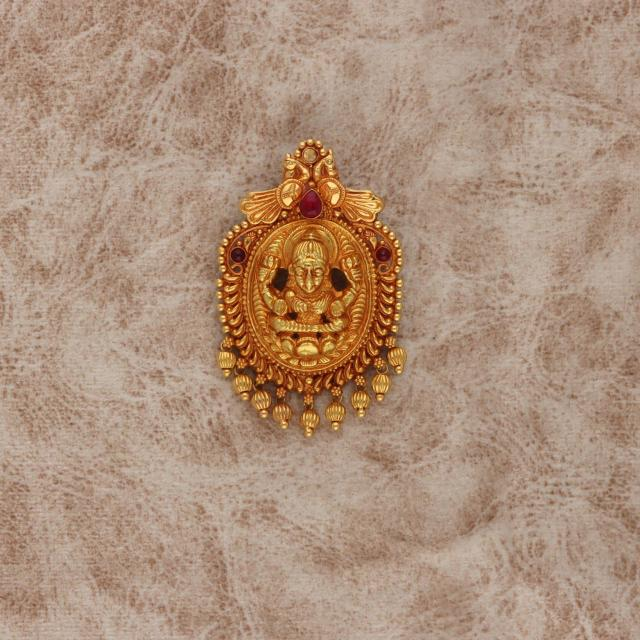missing gem: (303, 148, 317, 162)
